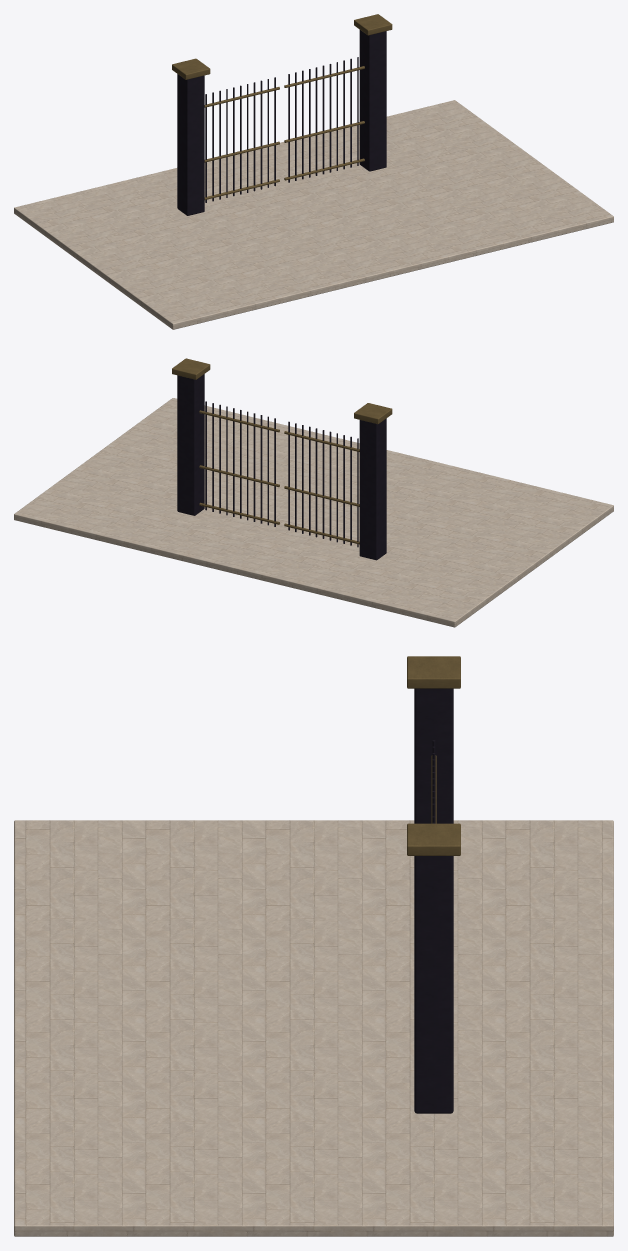
The model's file is explore3d__park_main_gate.glb.
The picture shows the model from 3 angles, top to bottom: view 1: azimuth 30°, elevation 25°; view 2: azimuth 150°, elevation 25°; view 3: azimuth 270°, elevation 25°; orthographic projection. The views are drawn at different scales.
Visible parts, largest first — view 1: Runtime_local_park_main_gate; view 2: Runtime_local_park_main_gate; view 3: Runtime_local_park_main_gate.
Boxes of the visible parts, bbox=[...] form: Runtime_local_park_main_gate: bbox=[14, 14, 613, 329]; Runtime_local_park_main_gate: bbox=[14, 358, 613, 627]; Runtime_local_park_main_gate: bbox=[14, 656, 613, 1236].
Bounding box in the file's own units: 16 × 5.22 × 10.
3 materials, 3 textured.
